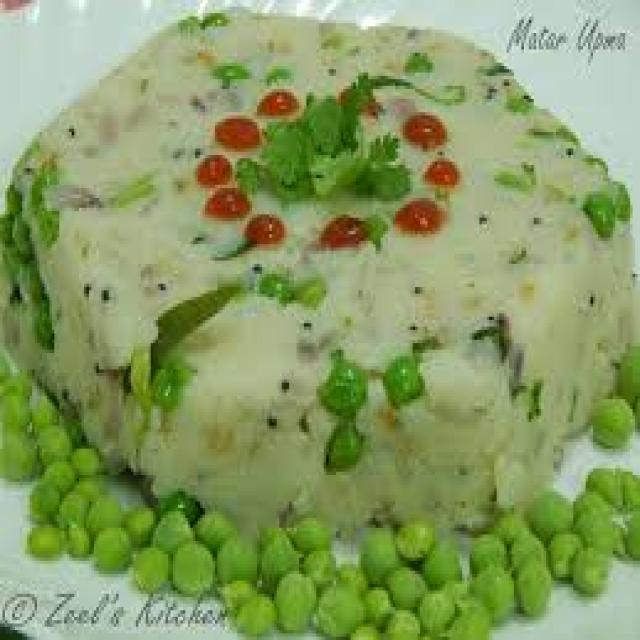Wet Waste: (8, 3, 640, 474)
